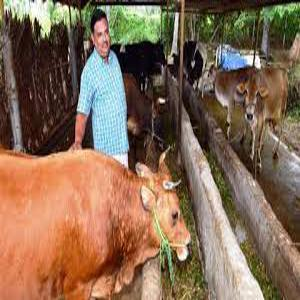lumpy skin diesease: (0, 140, 192, 299), (235, 64, 289, 175), (208, 63, 257, 126)
